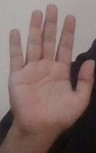Hello: (21, 69, 39, 108)
